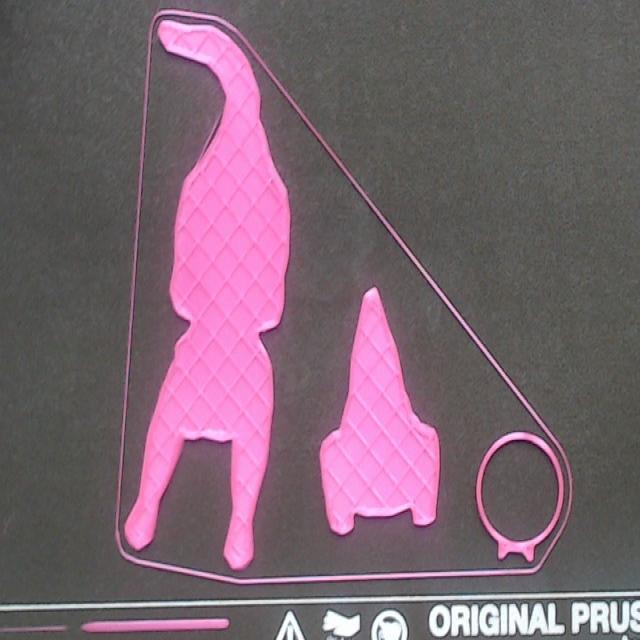mistake: (206, 129, 214, 143)
